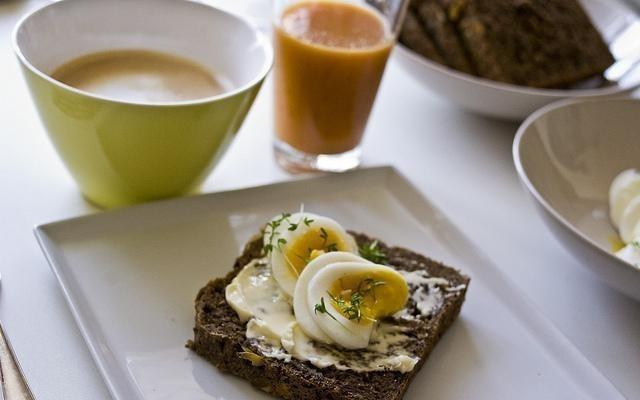cup-handle: (10, 1, 273, 212)
glass-normal: (271, 1, 398, 179)
